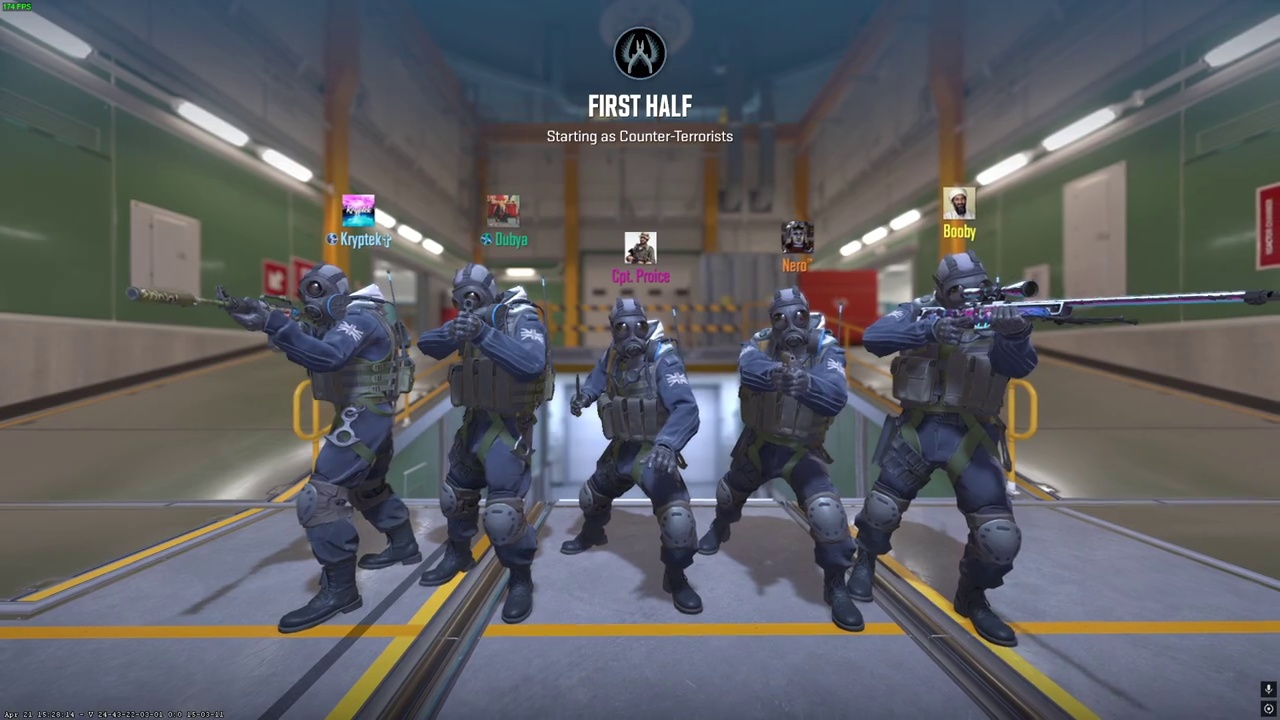CT: (857, 252, 1037, 640), (265, 263, 419, 620), (711, 287, 859, 621), (425, 263, 552, 614), (570, 300, 704, 613)
